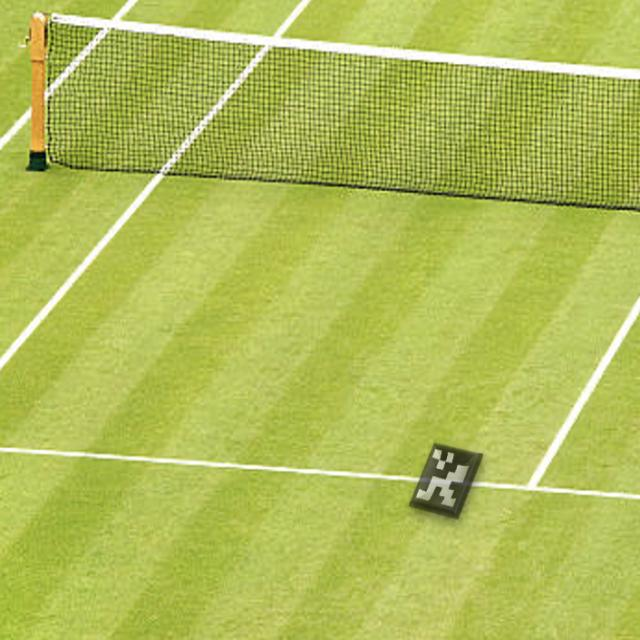marker: (406, 431, 490, 529)
